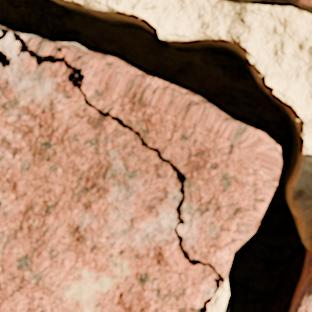brick: (0, 53, 216, 311), (291, 251, 311, 311), (0, 34, 19, 56), (292, 0, 311, 5)
crack: (0, 0, 309, 311)
